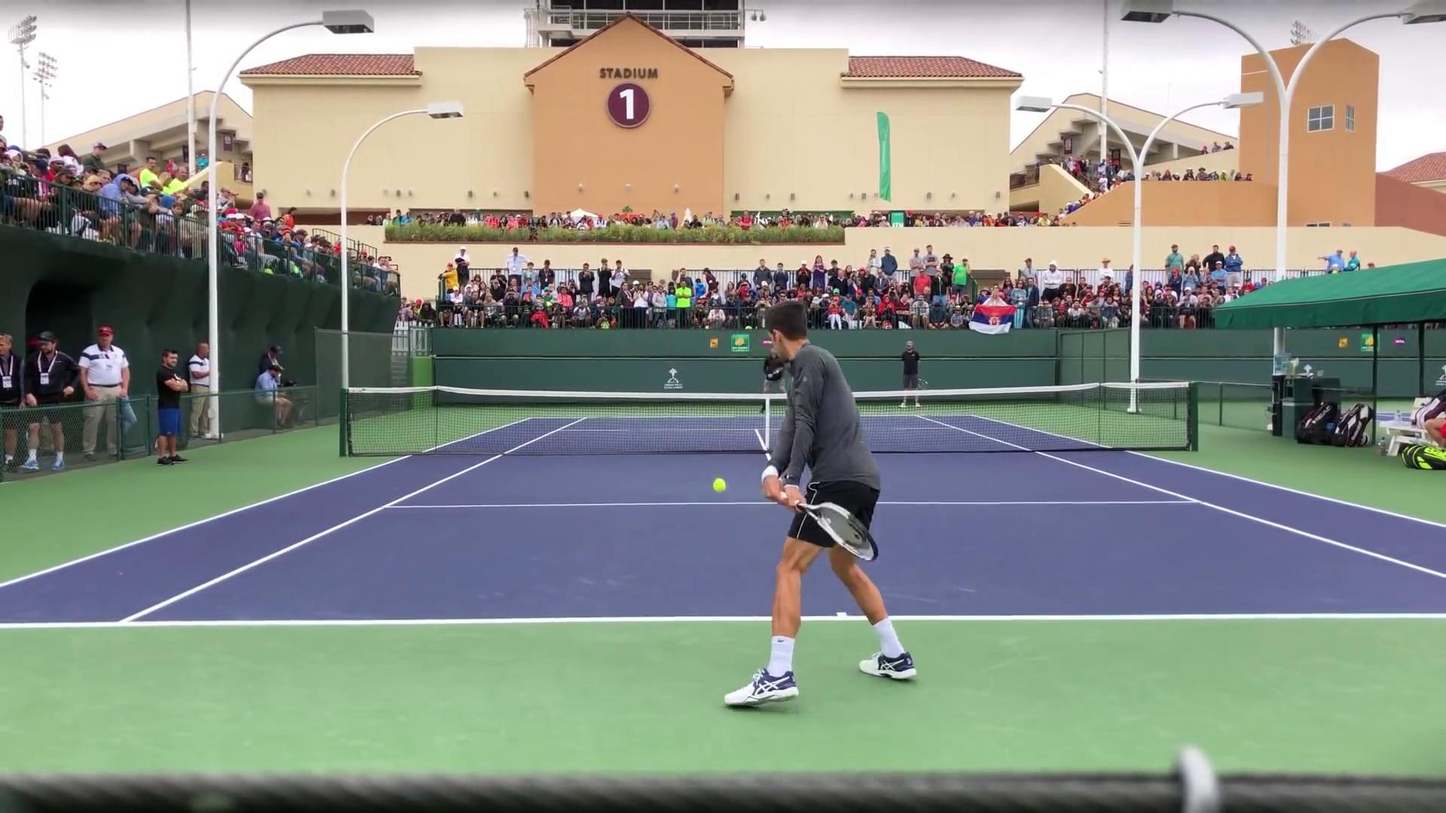ball: (712, 478, 727, 493)
